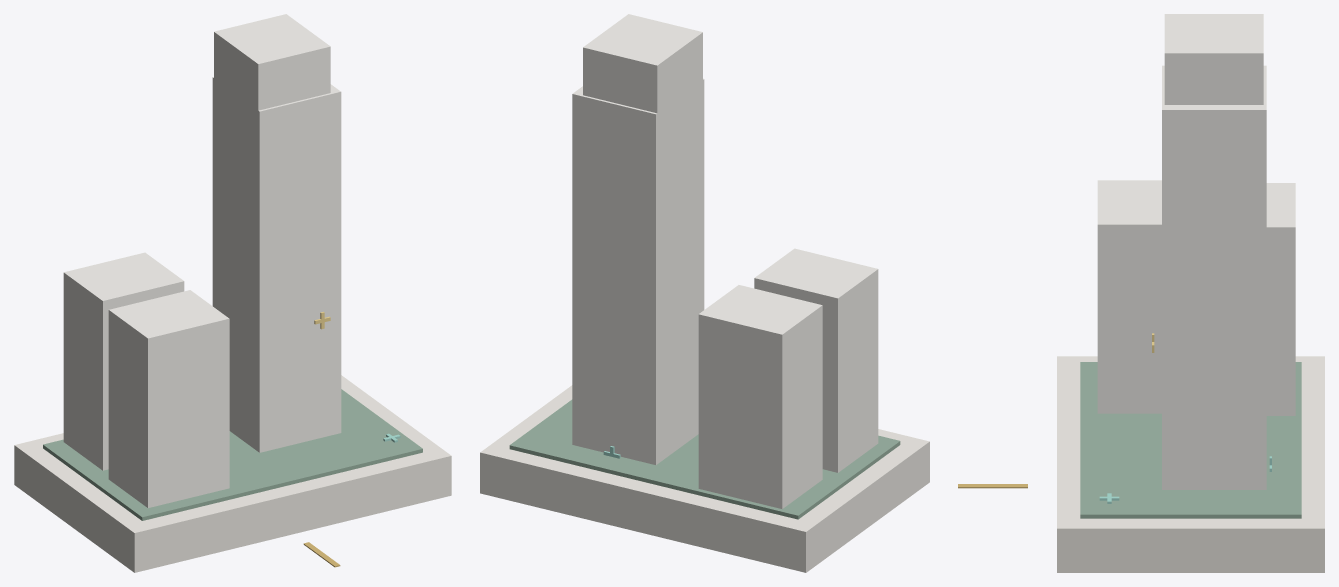
3 views of the same model, side by side, from view 1: azimuth 30°, elevation 25°; view 2: azimuth 150°, elevation 25°; view 3: azimuth 270°, elevation 25° (orthographic). The views are drawn at different scales.
Parts seen in each view (by area): view 1: Tower_28_Level_Massing_LOD, Podium_Double_Level_LOD, Boutique_A_13_Level_LOD, Boutique_B_13_Level_LOD, Landscape_Terraces_LOD; view 2: Tower_28_Level_Massing_LOD, Podium_Double_Level_LOD, Boutique_B_13_Level_LOD, Boutique_A_13_Level_LOD, Landscape_Terraces_LOD; view 3: Tower_28_Level_Massing_LOD, Podium_Double_Level_LOD, Landscape_Terraces_LOD, Boutique_A_13_Level_LOD, Boutique_B_13_Level_LOD.
Boxes of the visible parts, left/top/right/bottom form: Tower_28_Level_Massing_LOD: left=212, top=14, right=341, bottom=452; Podium_Double_Level_LOD: left=14, top=375, right=451, bottom=572; Boutique_A_13_Level_LOD: left=108, top=290, right=229, bottom=507; Boutique_B_13_Level_LOD: left=63, top=252, right=184, bottom=470; Landscape_Terraces_LOD: left=43, top=389, right=422, bottom=520; Tower_28_Level_Massing_LOD: left=572, top=14, right=704, bottom=464; Podium_Double_Level_LOD: left=480, top=385, right=929, bottom=572; Boutique_B_13_Level_LOD: left=698, top=285, right=822, bottom=508; Boutique_A_13_Level_LOD: left=754, top=248, right=878, bottom=472; Landscape_Terraces_LOD: left=509, top=399, right=900, bottom=519; Tower_28_Level_Massing_LOD: left=1162, top=14, right=1266, bottom=489; Podium_Double_Level_LOD: left=1057, top=356, right=1324, bottom=572; Landscape_Terraces_LOD: left=1080, top=362, right=1301, bottom=518; Boutique_A_13_Level_LOD: left=1097, top=180, right=1161, bottom=413; Boutique_B_13_Level_LOD: left=1266, top=183, right=1295, bottom=415.
Size of the model in its own units: 70 by 91 by 63.
